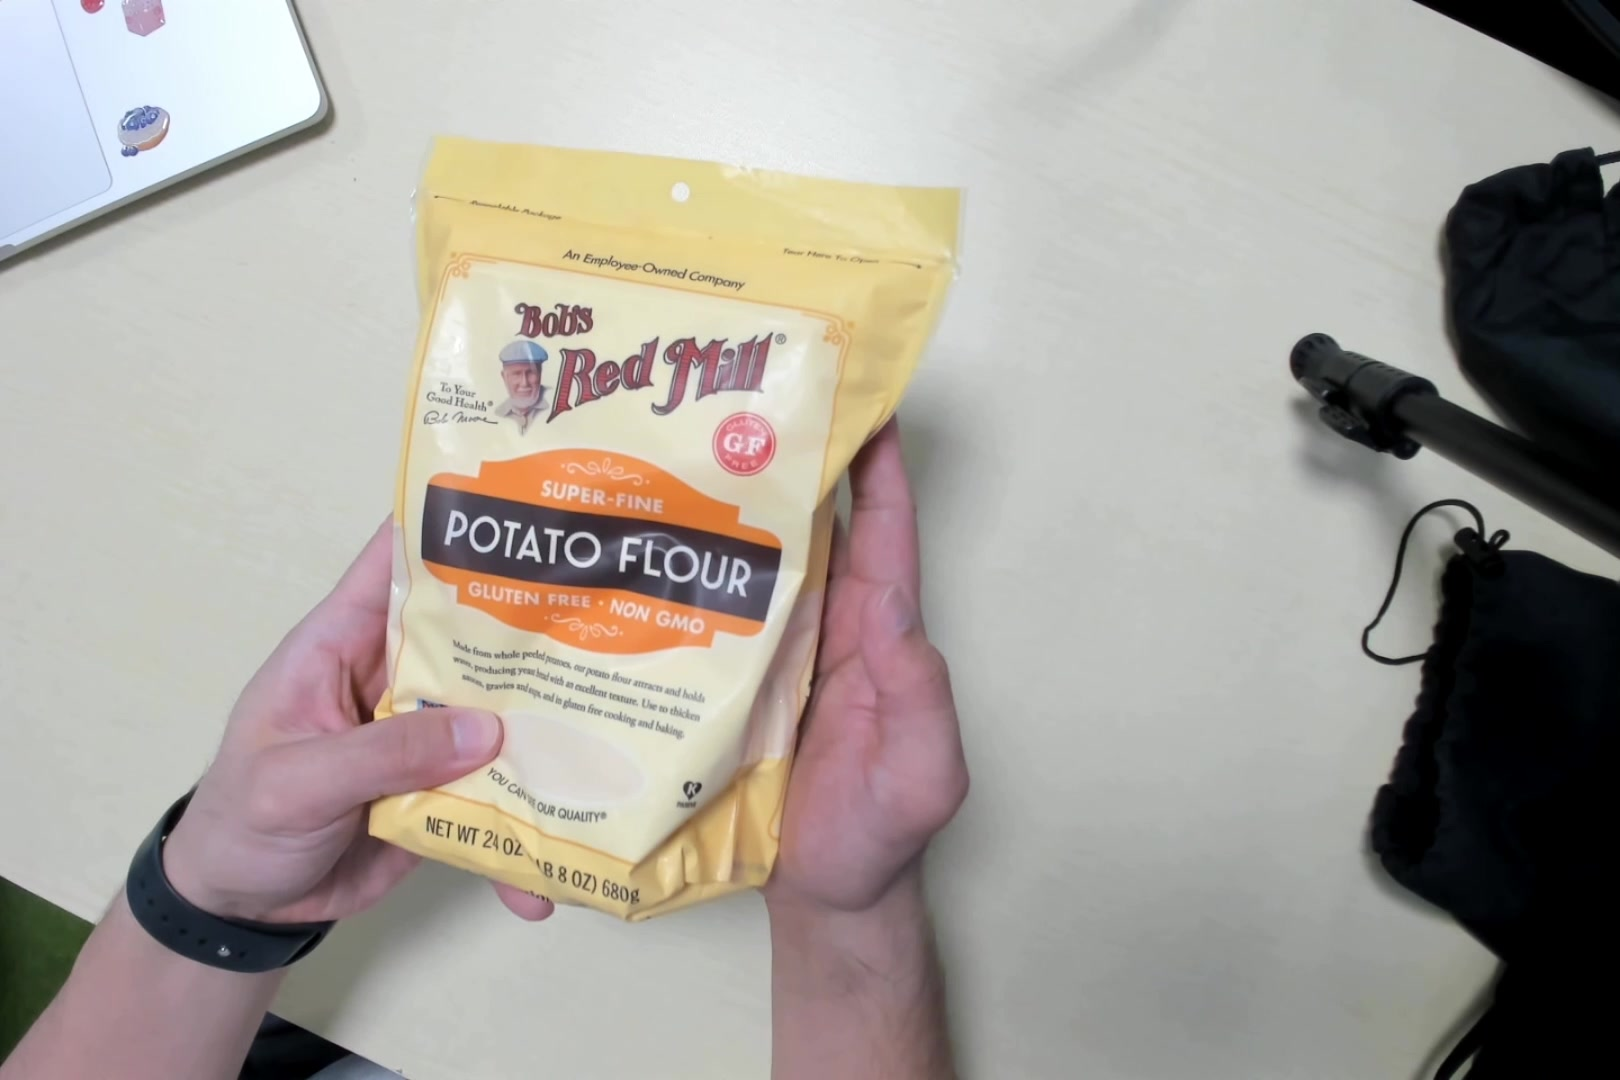OtherBakingNeeds_600-699g_NonHalal_NonHealthy: (366, 125, 959, 921)
